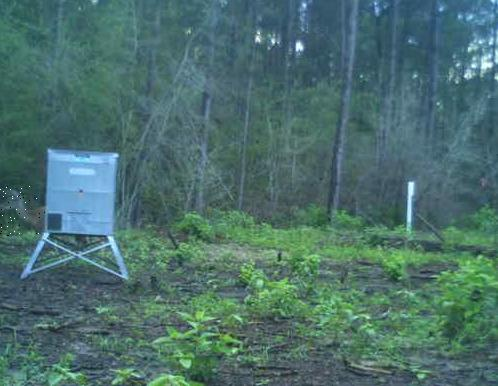Deer: (0, 186, 45, 236)
